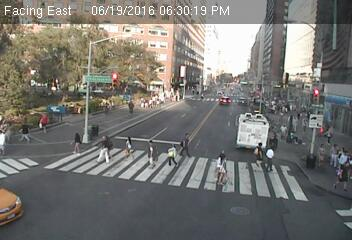neg: (56, 168, 79, 198), (102, 7, 122, 34), (229, 191, 248, 217), (56, 32, 75, 58), (157, 26, 176, 51), (276, 28, 295, 53), (39, 143, 57, 166), (215, 24, 232, 47), (319, 90, 335, 112), (13, 194, 29, 215), (119, 58, 135, 79), (157, 193, 171, 212), (308, 46, 322, 65), (289, 170, 303, 188), (39, 71, 53, 89), (216, 94, 228, 110), (19, 34, 31, 50), (141, 109, 152, 123), (287, 197, 297, 210), (176, 111, 183, 120), (217, 120, 224, 129)
pos: (209, 146, 237, 183), (160, 137, 186, 171), (94, 134, 118, 165), (248, 140, 271, 171), (174, 130, 196, 159), (66, 129, 88, 158), (142, 139, 162, 167), (334, 157, 351, 188), (261, 144, 280, 170), (121, 133, 140, 159), (313, 140, 331, 164), (326, 139, 344, 163), (322, 122, 340, 145), (16, 120, 33, 142), (35, 112, 51, 133), (276, 122, 290, 140), (125, 97, 138, 115), (191, 89, 197, 97), (200, 93, 206, 100), (197, 89, 201, 95)
